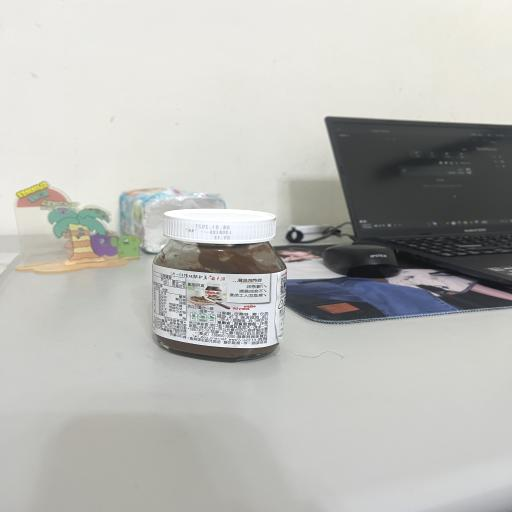chocolate_jar: (152, 209, 287, 362)
